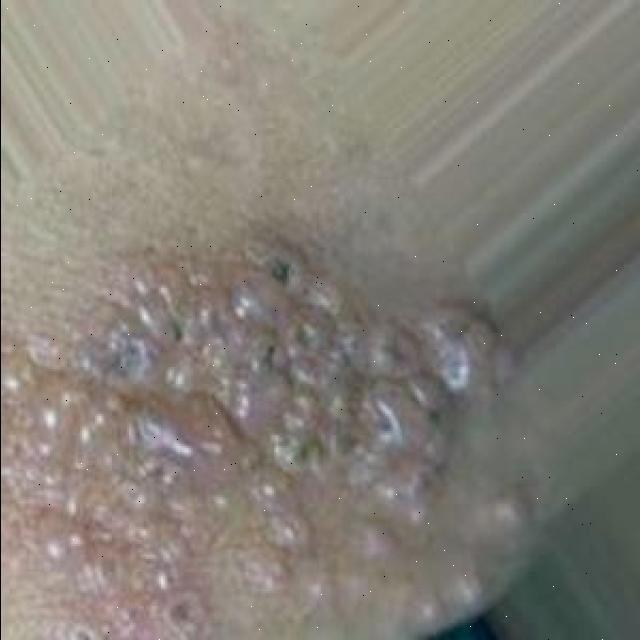Shingles: (0, 243, 532, 640)
